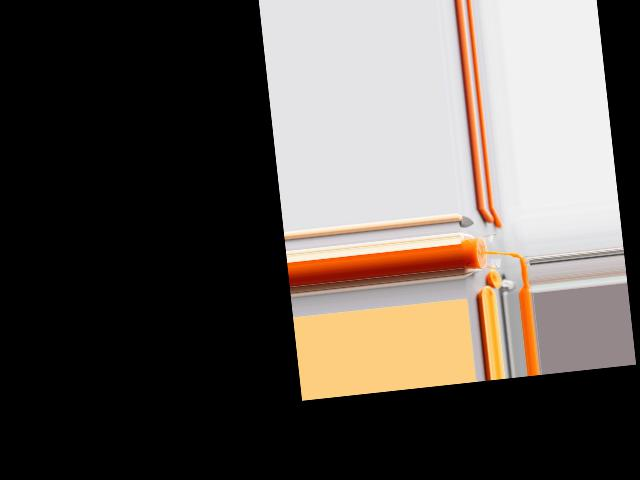carrot: (476, 206, 501, 231)
